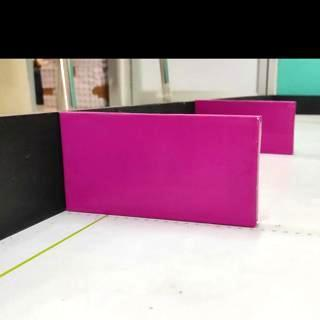xparking: (68, 114, 260, 228), (266, 101, 295, 156)
